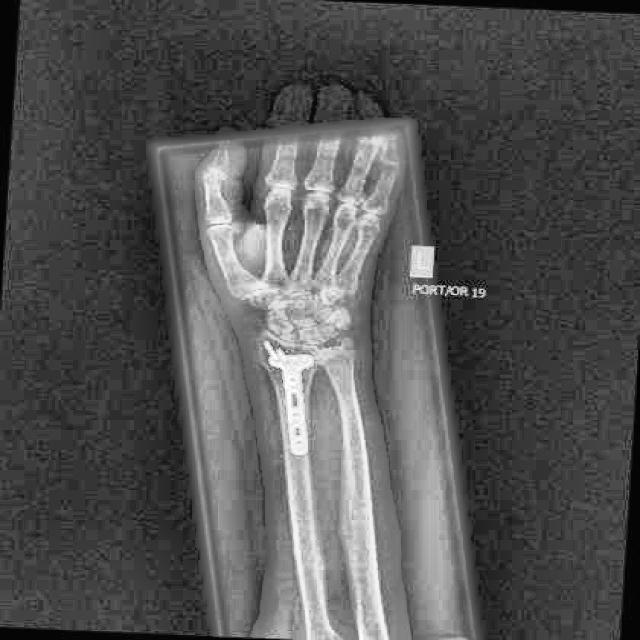wrist positive: (310, 331, 362, 380), (273, 326, 303, 345)
